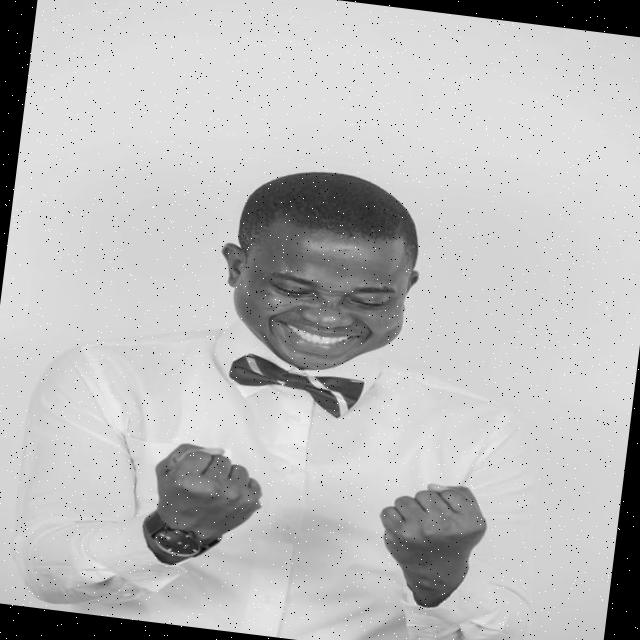Happiness: (222, 213, 420, 384)
